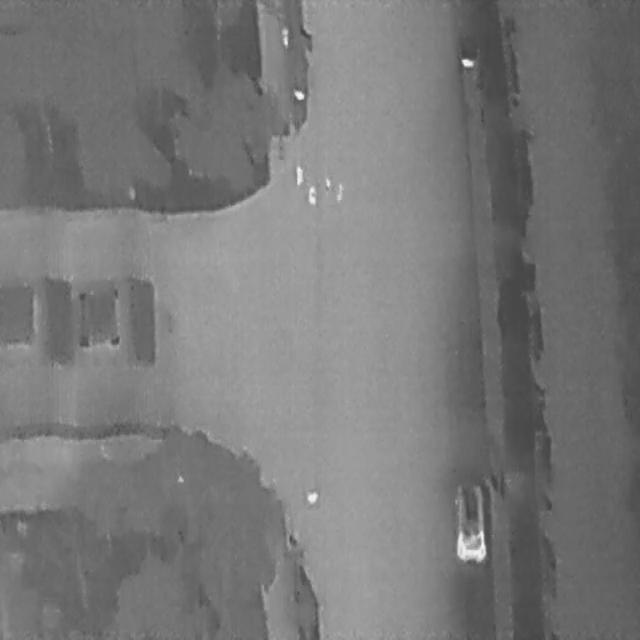Car: (451, 481, 488, 560)
Person: (307, 181, 317, 205), (280, 25, 290, 47), (294, 165, 303, 187)
